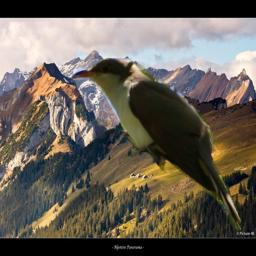Cuckoo: (67, 58, 241, 231)
